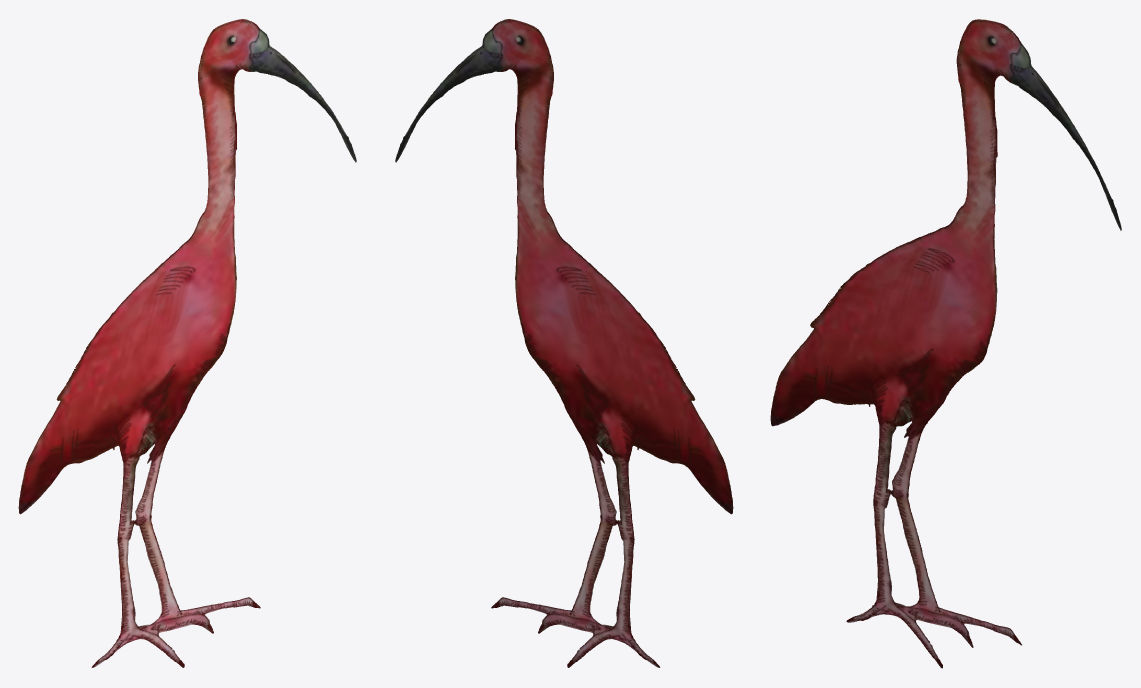
Rendered from ave.fbx.
3 views of the same model, side by side, from view 1: azimuth 30°, elevation 25°; view 2: azimuth 150°, elevation 25°; view 3: azimuth 330°, elevation 25° (orthographic). The views are drawn at different scales.
Visible parts, largest first — view 1: garza; view 2: garza; view 3: garza.
Part boxes in pixels (x1,y1,x2,y2): garza: [18, 19, 356, 667]; garza: [395, 19, 733, 667]; garza: [770, 19, 1121, 668].
Bounding box in the file's own units: 5.81 × 10.31 × 0.
Materials: 1 (1 with a texture image).
